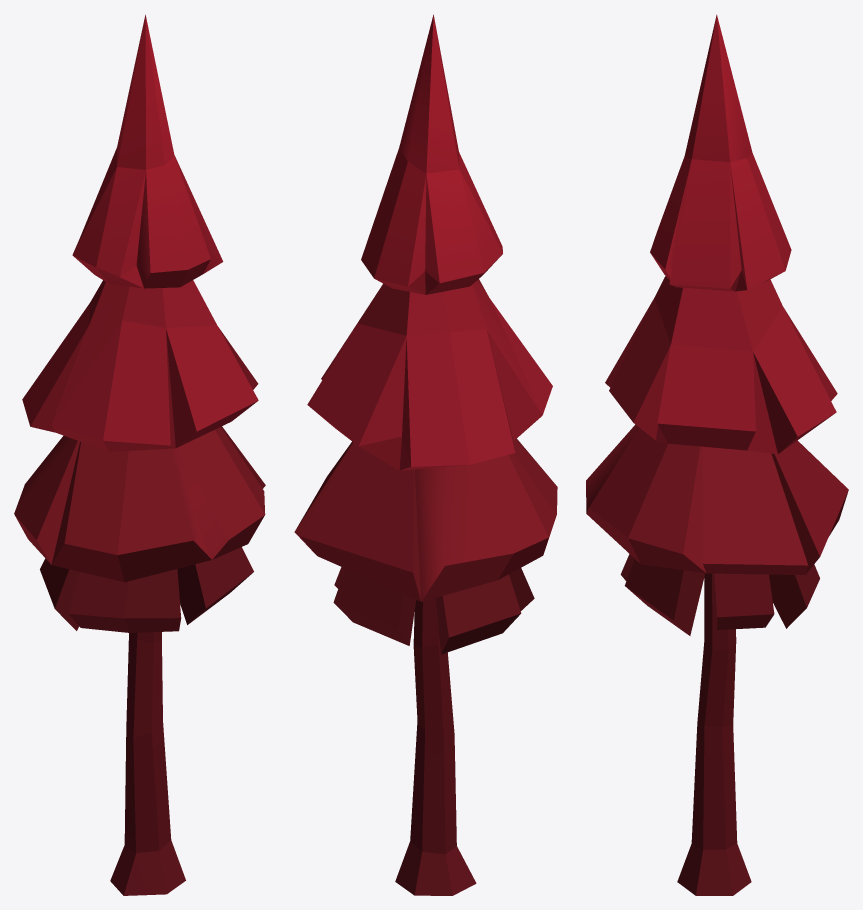
The model's file is tree_forest1.fbx.
3 renders of one model, left to right at view 1: azimuth 30°, elevation 25°; view 2: azimuth 150°, elevation 25°; view 3: azimuth 270°, elevation 25°, orthographic.
Parts seen in each view (by area): view 1: tree_forest1; view 2: tree_forest1; view 3: tree_forest1.
Boxes of the visible parts, x1,y1,x2,y2 form: tree_forest1: (14,14,265,895); tree_forest1: (294,14,557,895); tree_forest1: (586,14,848,895).
Size of the model in its own units: 106 by 389 by 107.
